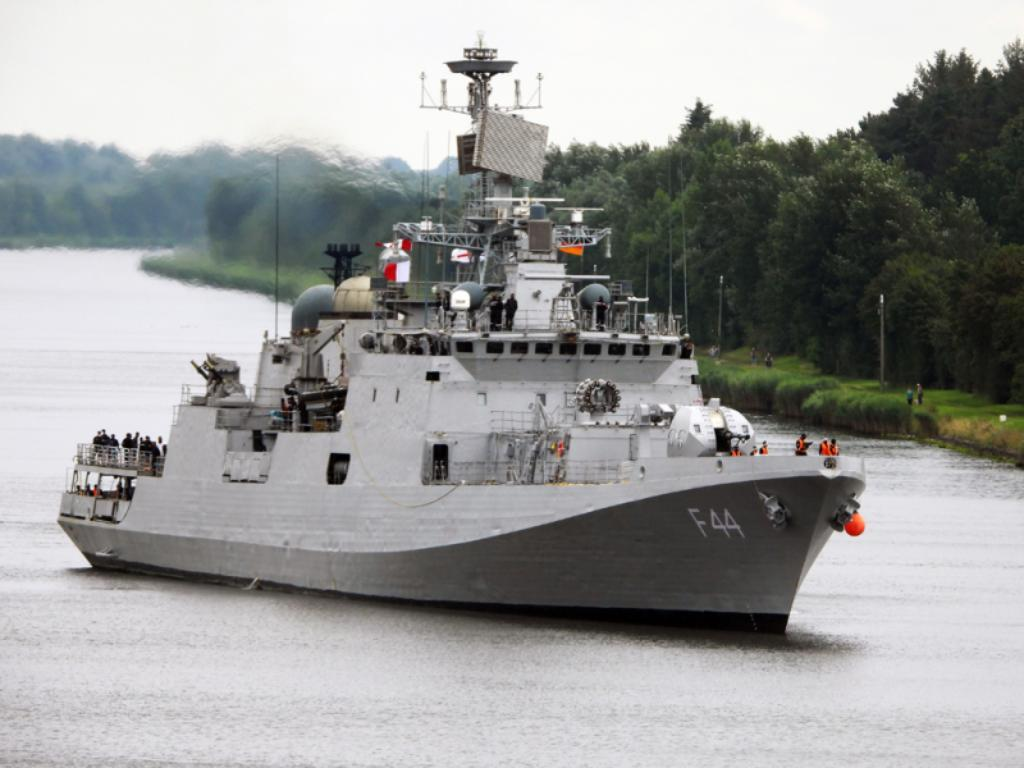Warship: (58, 16, 874, 638)
